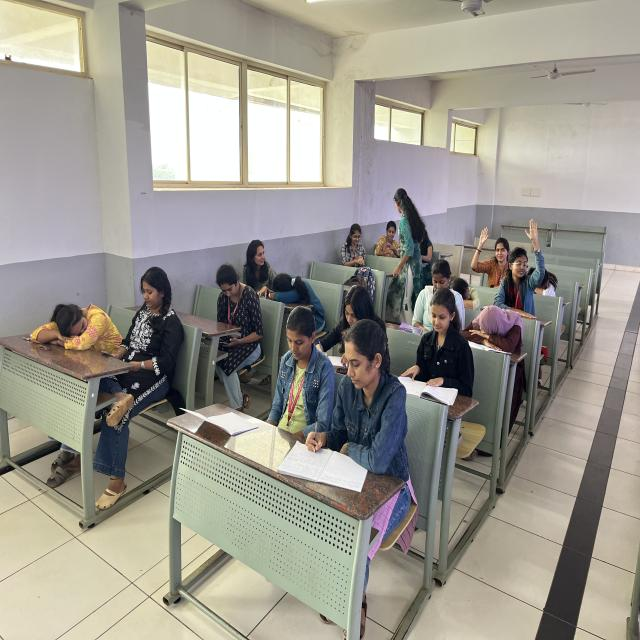Hand Rising: (504, 212, 548, 306), (470, 221, 514, 292)
Reading: (392, 289, 474, 406)
Sleeping: (28, 289, 128, 367), (254, 264, 332, 324)
Using Phone: (104, 259, 185, 373), (205, 256, 270, 364)
Writing: (297, 312, 407, 492)
